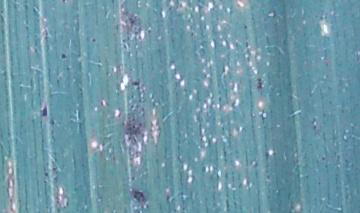tarspot: (131, 188, 148, 206), (255, 76, 264, 92), (40, 103, 49, 118), (60, 52, 69, 60), (90, 36, 98, 44), (240, 22, 248, 30), (131, 80, 140, 87), (43, 170, 50, 178), (189, 30, 194, 38), (110, 1, 116, 7), (60, 1, 67, 4)
